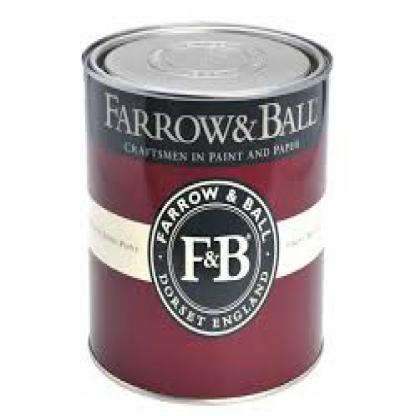METAL: (78, 22, 333, 398)
